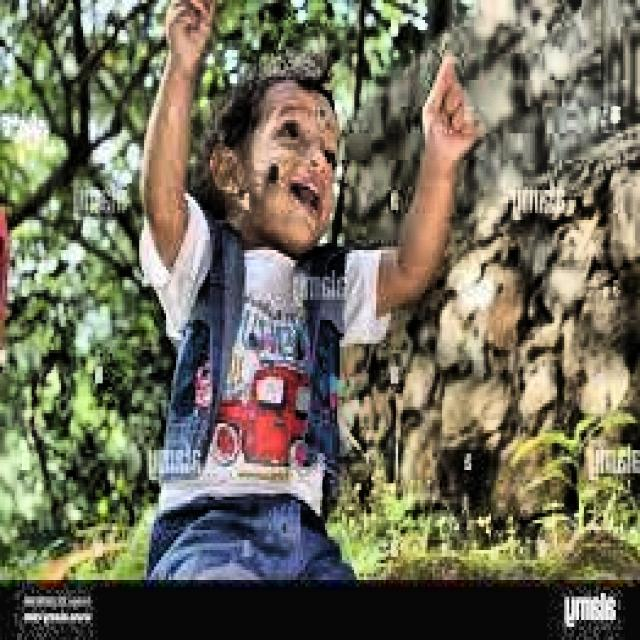Human: (137, 4, 496, 599)
